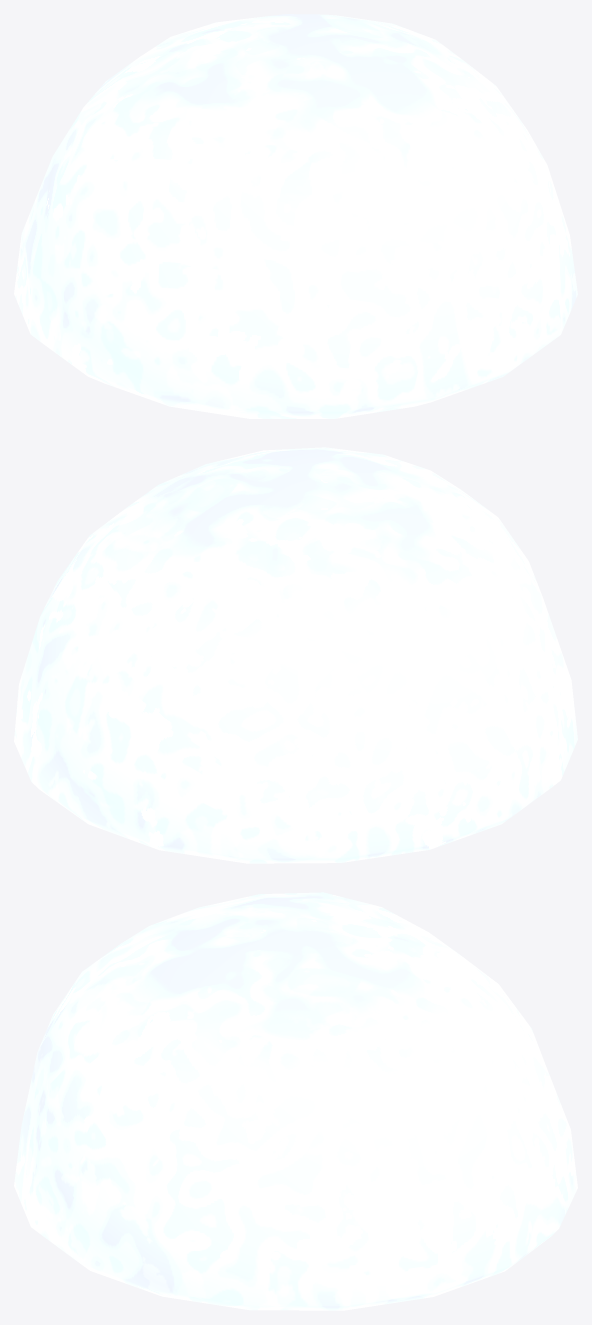
Rendered from 088_round_stone.glb.
3 views of the same model, one above another, from view 1: azimuth 30°, elevation 25°; view 2: azimuth 150°, elevation 25°; view 3: azimuth 270°, elevation 25° (orthographic).
Visible parts, largest first — view 1: stone; view 2: stone; view 3: stone.
Part boxes in pixels (<box>): stone: <box>14,14,577,418</box>; stone: <box>14,447,577,863</box>; stone: <box>14,892,577,1310</box>.
Bounding box in the file's own units: 0.7069 × 0.375 × 0.7168.
1 material, 1 textured.
